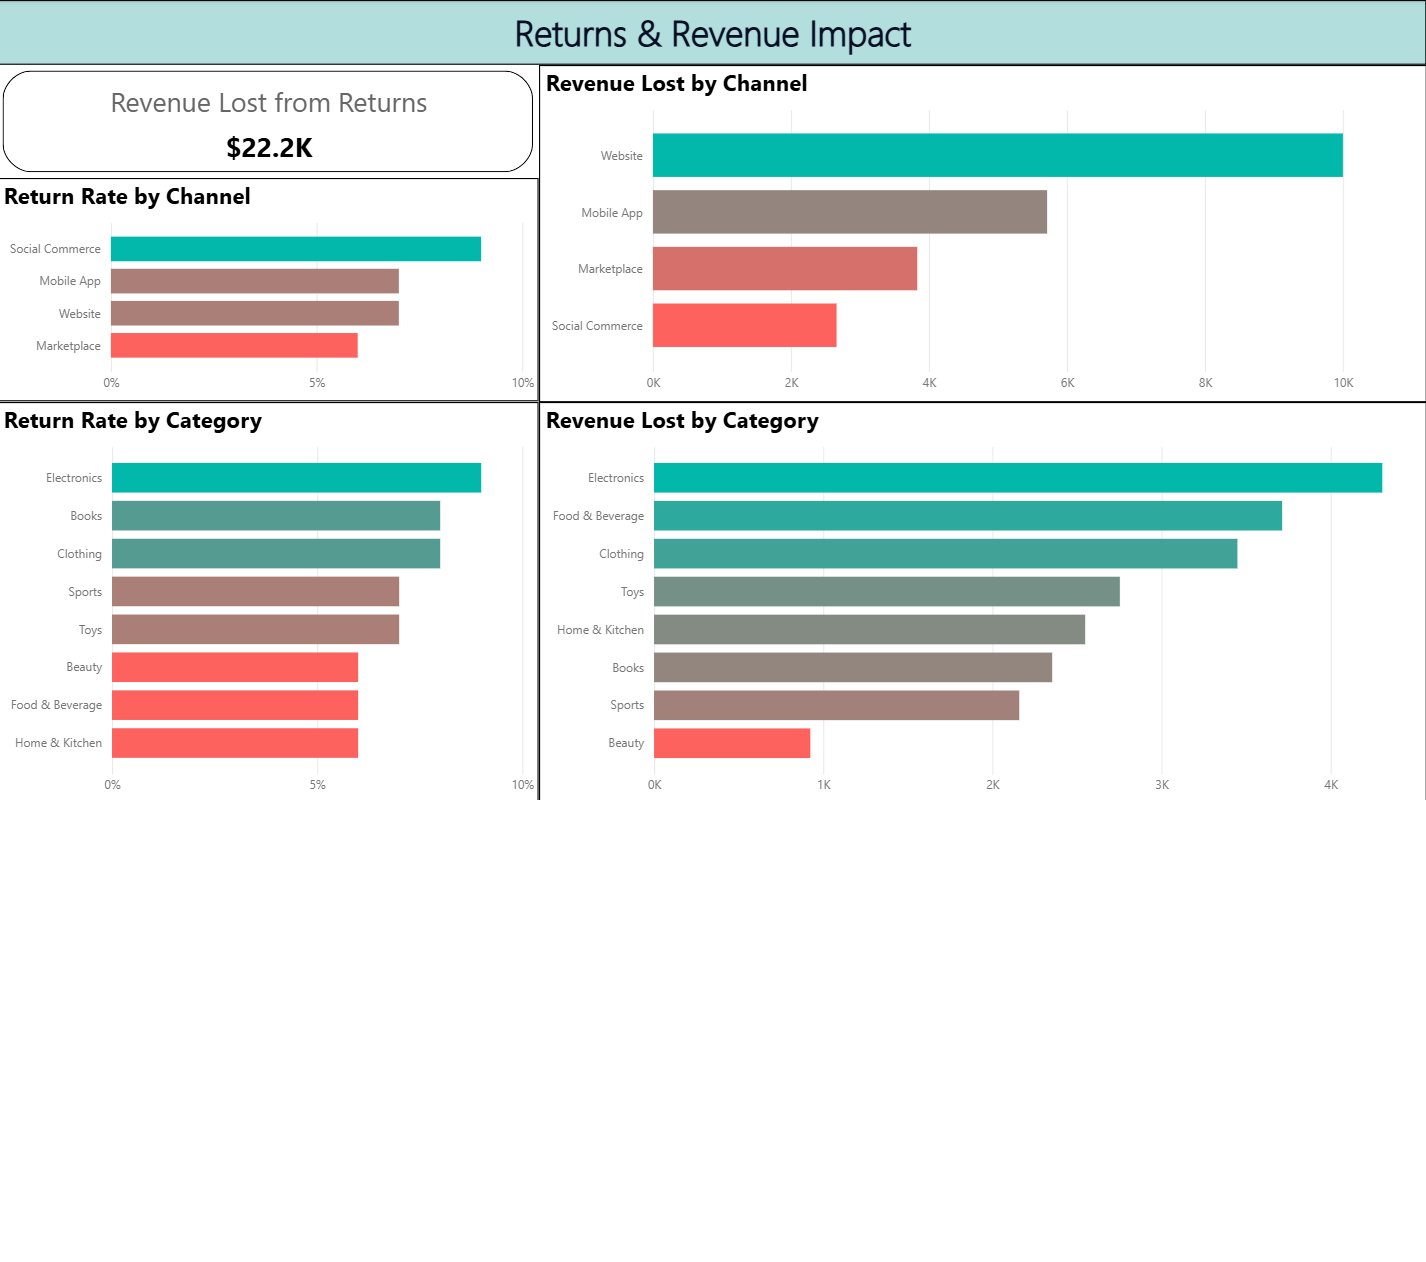

The dashboard page shown, as its layout file describes it:
{"tool":"powerbi","page":{"name":"Returns Analysis","canvas":[1280,720],"ordinal":2},"visuals":[{"type":"clusteredBarChart","title":"Revenue Lost by Channel","fields":{"Category":["e_commerce vw_channel_returns.channel"],"Y":["Sum(e_commerce vw_channel_returns.lost_revenue)"]},"box":[485.3,58.4,794.7,301.5],"z":0},{"type":"clusteredBarChart","title":"Return Rate by Channel","fields":{"Category":["e_commerce vw_channel_returns.channel"],"Y":["Sum(e_commerce vw_channel_returns.return_rate)"]},"box":[0,159.5,485.3,200.4],"z":1000},{"type":"barChart","title":"Return Rate by Category","fields":{"Category":["e_commerce vw_category_returns.primary_category"],"Y":["Sum(e_commerce vw_category_returns.return_rate)"]},"box":[0,359.9,485.3,359.9],"z":2000},{"type":"clusteredBarChart","title":"Revenue Lost by Category","fields":{"Category":["e_commerce vw_category_returns.primary_category"],"Y":["Sum(e_commerce vw_category_returns.lost_revenue)"]},"box":[485.4,360.1,794.6,360.1],"z":3000},{"type":"cardVisual","fields":{"Data":["e_commerce vw_category_returns.total_revenue_lost"]},"box":[0,58.4,485.3,101.2],"z":4000},{"type":"textbox","box":[0,0,1280,58.4],"z":5000}]}

Visuals, with their boxes on the page's 1280x720 design canvas (x1, y1, x2, y2). These are canvas units, not pixel positions in the 1426x1262 screenshot, which may show the page scaled, cropped or inside an application window:
"Revenue Lost by Channel" clusteredBarChart: locate(485, 58, 1280, 360)
"Return Rate by Channel" clusteredBarChart: locate(0, 160, 485, 360)
"Return Rate by Category" barChart: locate(0, 360, 485, 720)
"Revenue Lost by Category" clusteredBarChart: locate(485, 360, 1280, 720)
cardVisual - e_commerce vw_category_returns.total_revenue_lost: locate(0, 58, 485, 160)
textbox: locate(0, 0, 1280, 58)
